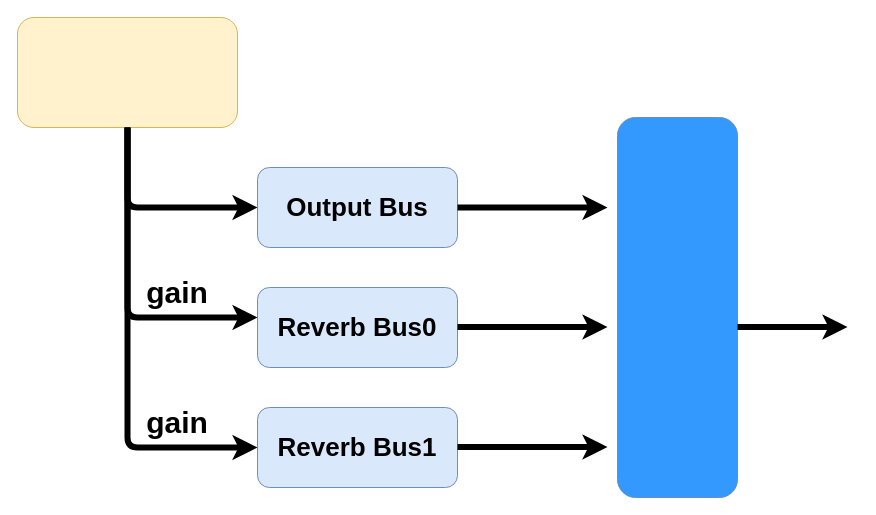
Image size: 876x515. Some labels were removed from this diagram. Here are the shapes that lost their labels. From the top down, the centre of each, then its label:
At point 127,72: "Emitter".
At point 677,307: "Master Bus".
